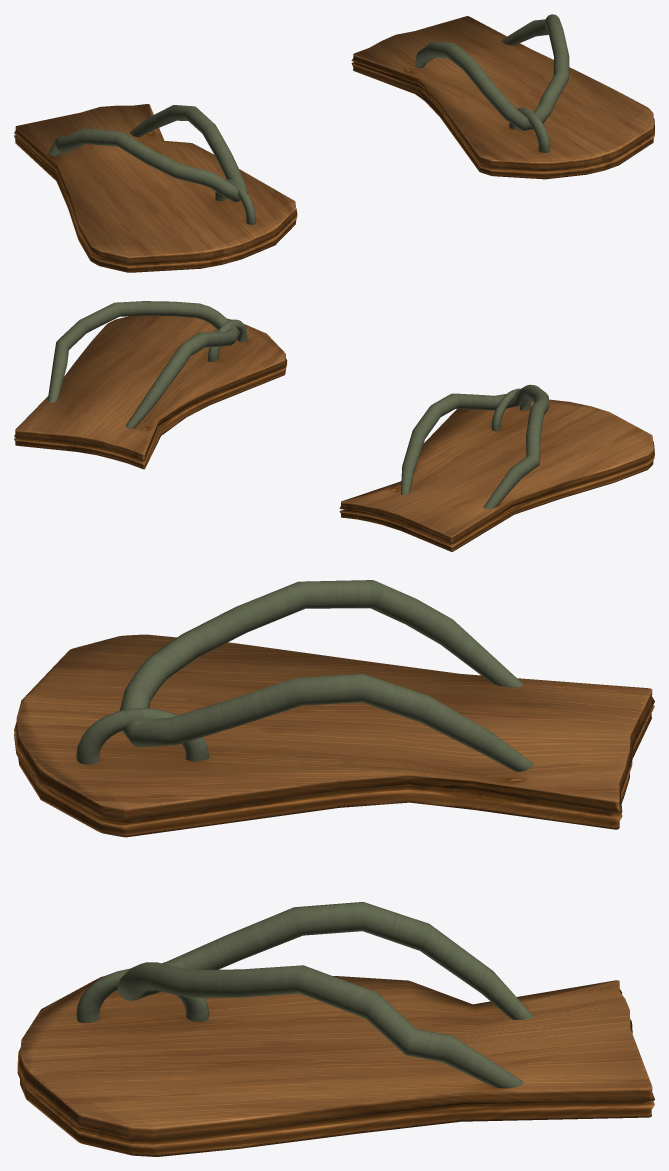
File: Slapi.fbx
3 renders of one model, top to bottom at view 1: azimuth 30°, elevation 25°; view 2: azimuth 150°, elevation 25°; view 3: azimuth 270°, elevation 25°, orthographic. The views are drawn at different scales.
Parts seen in each view (by area): view 1: Sandale_low; view 2: Sandale_low; view 3: Sandale_low.
Boxes of the visible parts, x1,y1,x2,y2 form: Sandale_low: (14,14,654,272); Sandale_low: (14,301,654,551); Sandale_low: (14,580,654,1156).
Size of the model in its own units: 51.28 by 7.05 by 28.08.
1 material, 1 textured.
